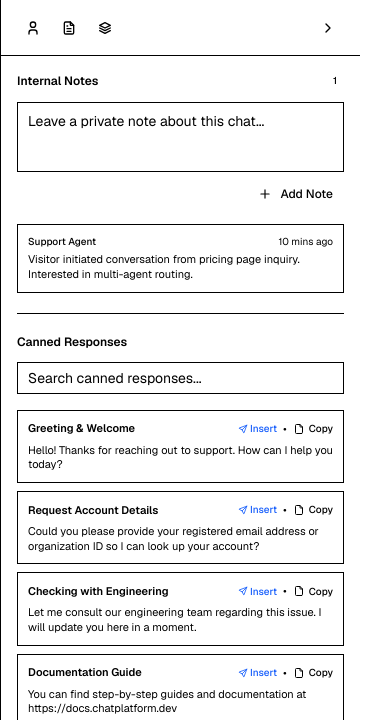
Test: ChatDetails › canned tab › filters canned responses and shows nothing when no match
In the field with placeholder "Search canned responses...": point(180, 378) [17,362,344,394], type "engineering"
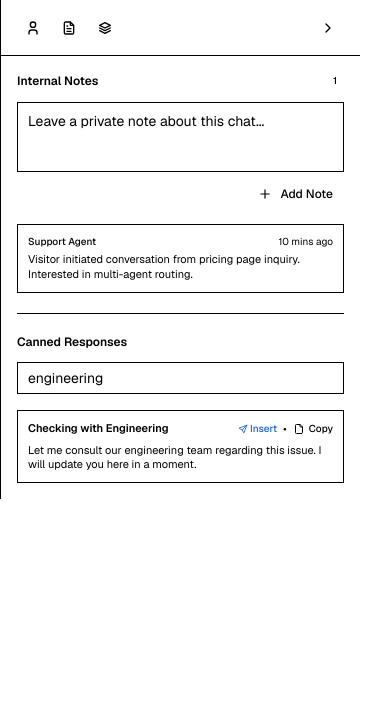
Check: the text "Checking with Engineering" is shown, box [28,421,168,436]
Check: the text "Greeting & Welcome" is gone
Replace the text in the field with placeholder "Search canned responses..." with "zzzzzz": point(180, 378) [17,362,344,394]
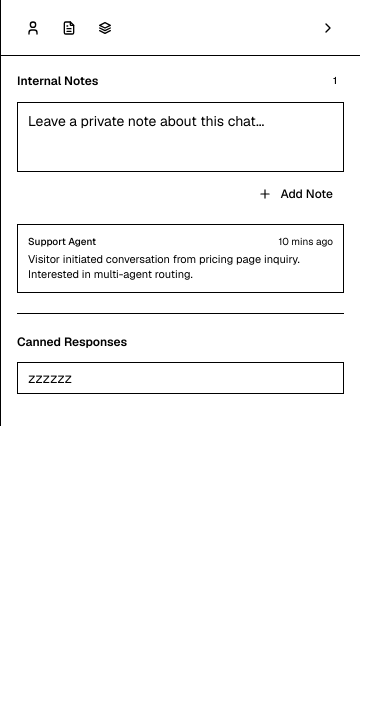
Check: the text "Checking with Engineering" is gone
